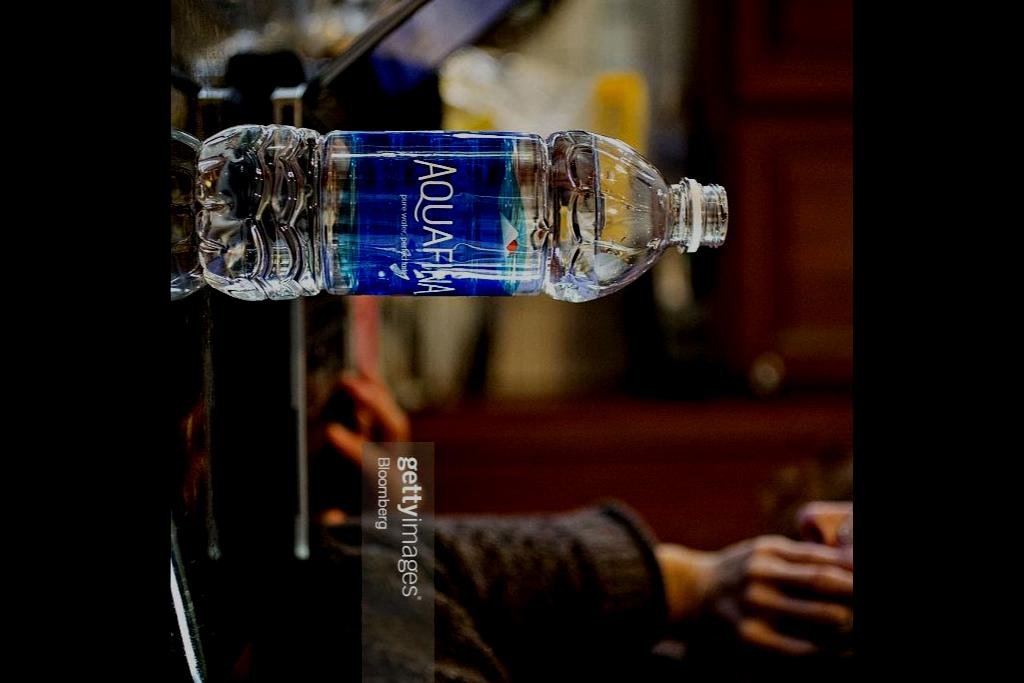bottle: (198, 126, 731, 304)
